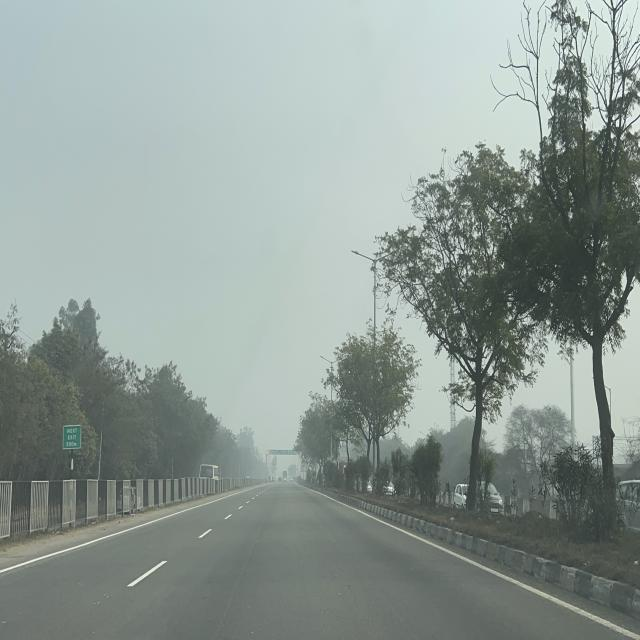GENERAL: (63, 424, 81, 450)
